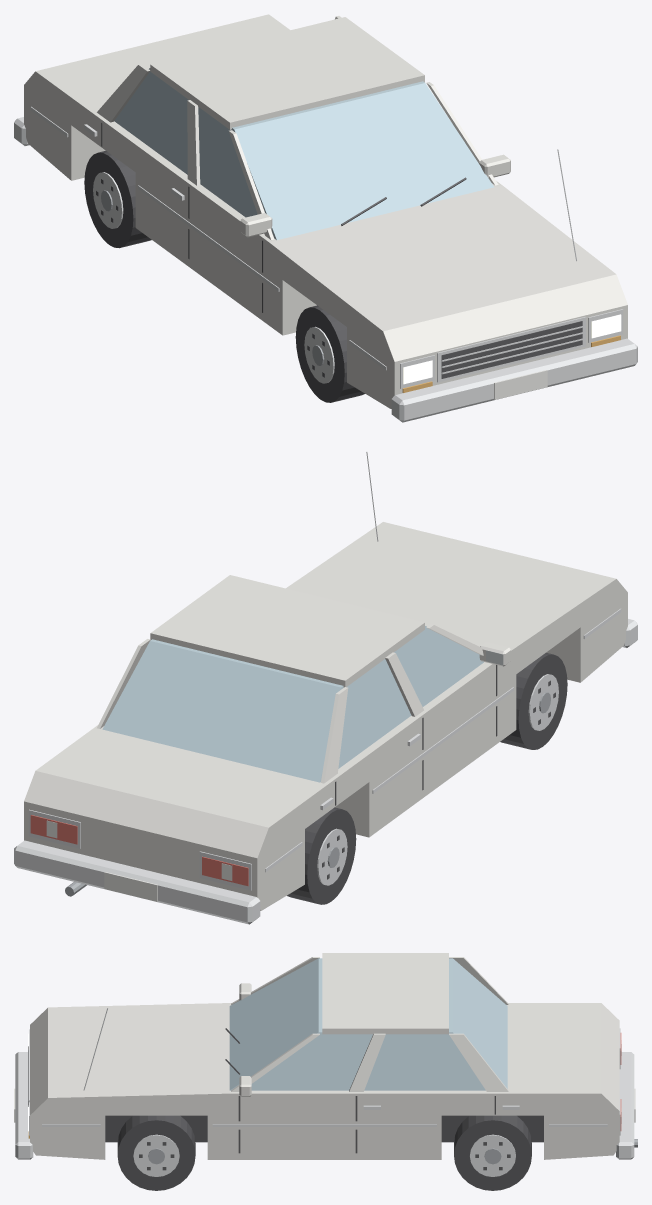
Rendered from car_sedan_w.glb.
3 renders of one model, top to bottom at view 1: azimuth 30°, elevation 25°; view 2: azimuth 150°, elevation 25°; view 3: azimuth 270°, elevation 25°, orthographic. The views are drawn at different scales.
Parts seen in each view (by area): view 1: car_sedan_w_car_w, car_sedan_w_glass, car_sedan_w_chrome, car_sedan_w_rubber, car_sedan_w_dark, car_sedan_w_lamp_glass, car_sedan_w_paint_w; view 2: car_sedan_w_car_w, car_sedan_w_glass, car_sedan_w_chrome, car_sedan_w_rubber, car_sedan_w_neon_r, car_sedan_w_paint_w; view 3: car_sedan_w_car_w, car_sedan_w_glass, car_sedan_w_rubber, car_sedan_w_chrome, car_sedan_w_dark, car_sedan_w_steel.
Part boxes in pixels (x1=…): car_sedan_w_car_w: x1=24, y1=14, x2=627, y2=408; car_sedan_w_glass: x1=114, y1=68, x2=493, y2=240; car_sedan_w_chrome: x1=14, y1=106, x2=637, y2=422; car_sedan_w_rubber: x1=84, y1=150, x2=364, y2=402; car_sedan_w_dark: x1=96, y1=122, x2=582, y2=378; car_sedan_w_lamp_glass: x1=403, y1=314, x2=621, y2=384; car_sedan_w_paint_w: x1=494, y1=370, x2=547, y2=399; car_sedan_w_car_w: x1=24, y1=522, x2=627, y2=910; car_sedan_w_glass: x1=102, y1=626, x2=483, y2=782; car_sedan_w_chrome: x1=14, y1=451, x2=637, y2=924; car_sedan_w_rubber: x1=287, y1=652, x2=567, y2=904; car_sedan_w_neon_r: x1=30, y1=815, x2=248, y2=886; car_sedan_w_paint_w: x1=46, y1=820, x2=232, y2=901; car_sedan_w_car_w: x1=30, y1=953, x2=619, y2=1159; car_sedan_w_glass: x1=229, y1=958, x2=507, y2=1090; car_sedan_w_rubber: x1=105, y1=1115, x2=543, y2=1190; car_sedan_w_chrome: x1=15, y1=1008, x2=634, y2=1176; car_sedan_w_dark: x1=28, y1=1028, x2=510, y2=1170; car_sedan_w_steel: x1=148, y1=1139, x2=637, y2=1164.
Size of the model in its own units: 2 by 1.6 by 5.12.
